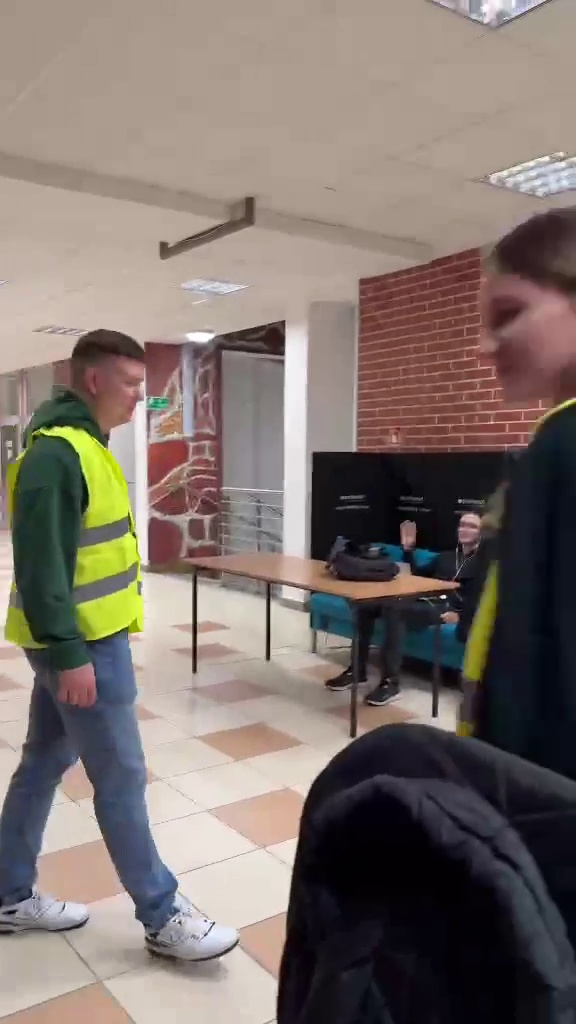vest: (11, 317, 250, 971)
